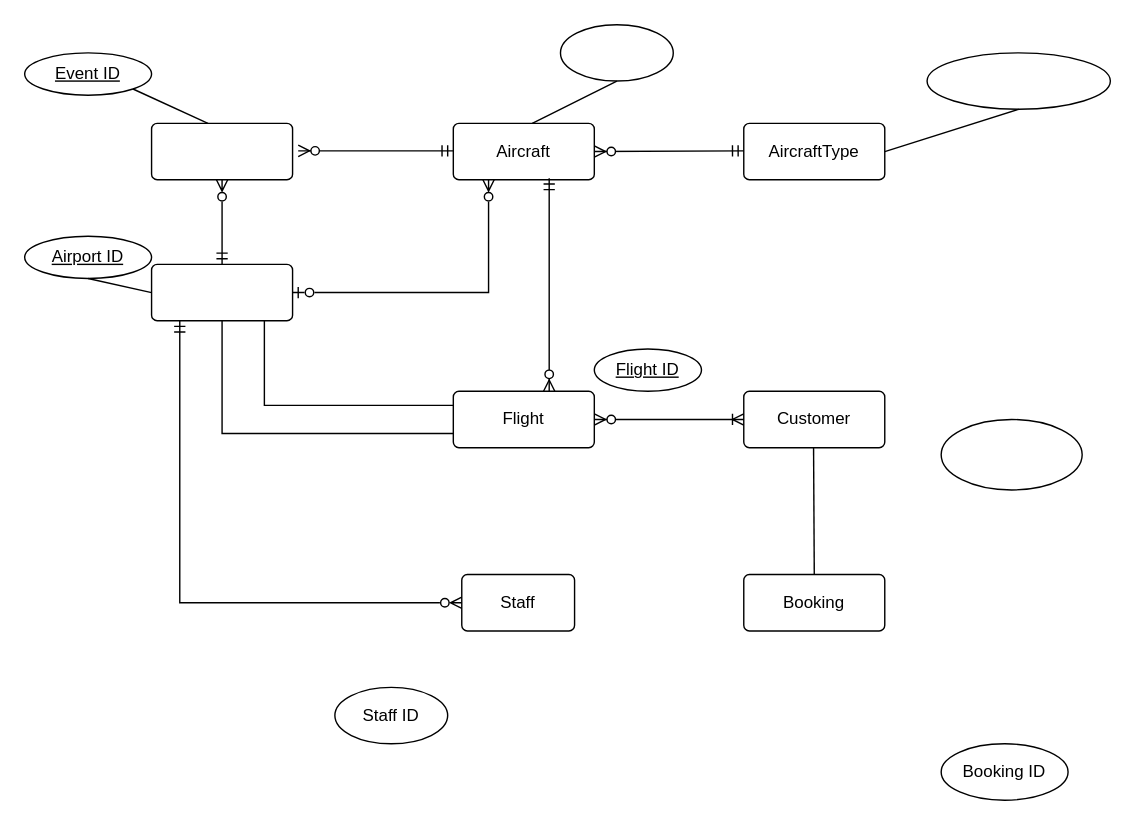
The diagram is 1135 pixels wide and 825 high, and some of its shapes have lost their labels. Each missing label, with the box of its shape:
Aircraft ID: (559, 23, 673, 81)
Aircraft model number: (926, 51, 1110, 109)
Airport: (150, 263, 293, 321)
Customer ID: (940, 418, 1082, 490)
Maintenance: (150, 122, 293, 180)
